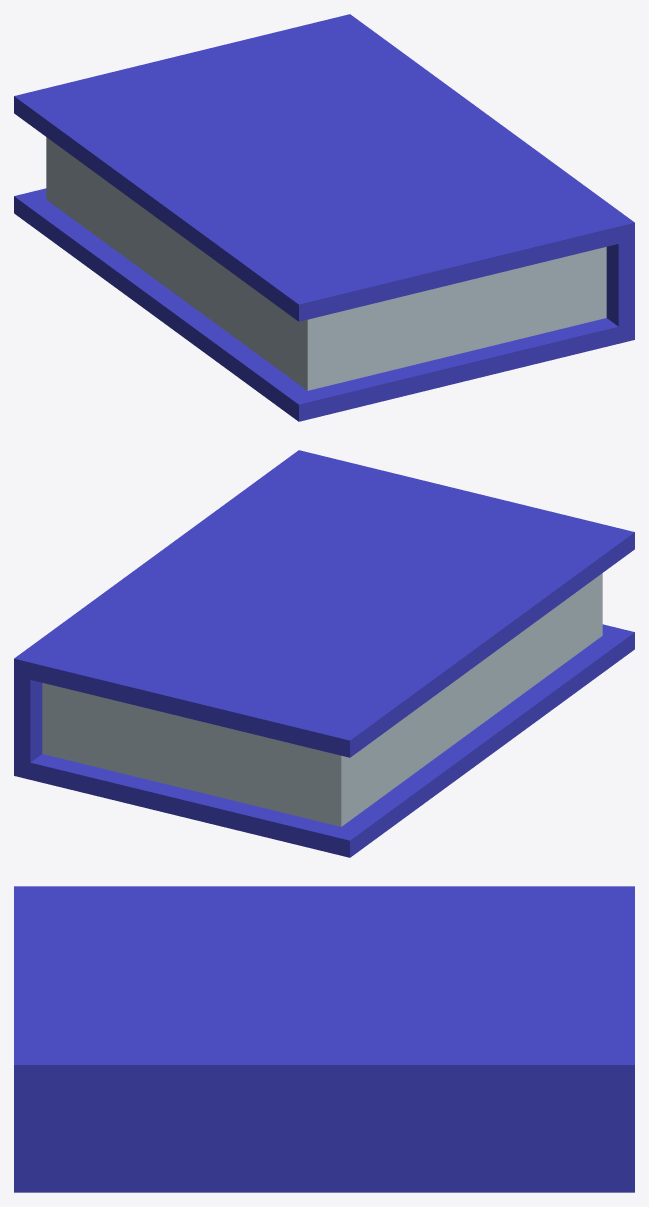
File: book.fbx
3 renders of one model, top to bottom at view 1: azimuth 30°, elevation 25°; view 2: azimuth 150°, elevation 25°; view 3: azimuth 270°, elevation 25°, orthographic. The views are drawn at different scales.
Parts seen in each view (by area): view 1: Box001, Object001; view 2: Box001, Object001; view 3: Box001.
Boxes of the visible parts, x1=… form: Box001: x1=14, y1=14, x2=634, y2=421; Object001: x1=46, y1=137, x2=606, y2=390; Box001: x1=14, y1=450, x2=634, y2=857; Object001: x1=42, y1=573, x2=602, y2=826; Box001: x1=14, y1=886, x2=634, y2=1192.
Size of the model in its own units: 56.56 by 18.86 by 83.03.
